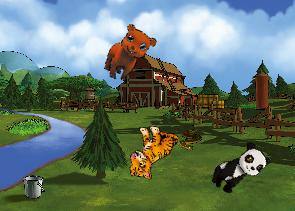bear: (100, 20, 159, 89)
panda: (206, 138, 272, 200)
tiger: (126, 122, 179, 182)
